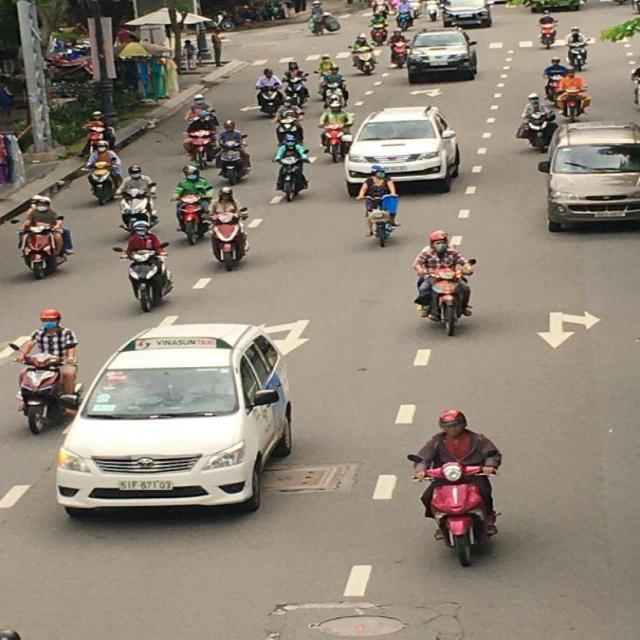car: (51, 327, 294, 519), (543, 122, 639, 235), (342, 108, 463, 196), (405, 29, 478, 84), (444, 0, 493, 30)
motorcycle: (413, 459, 502, 568), (16, 356, 74, 434), (420, 267, 474, 336), (124, 251, 169, 313), (208, 213, 250, 272), (21, 229, 63, 281), (272, 154, 310, 204), (176, 196, 213, 247), (518, 110, 560, 153), (214, 142, 252, 185), (86, 162, 122, 207), (556, 76, 592, 120), (182, 126, 218, 169), (367, 202, 398, 247), (322, 119, 352, 161), (568, 34, 590, 70), (540, 18, 558, 48)
